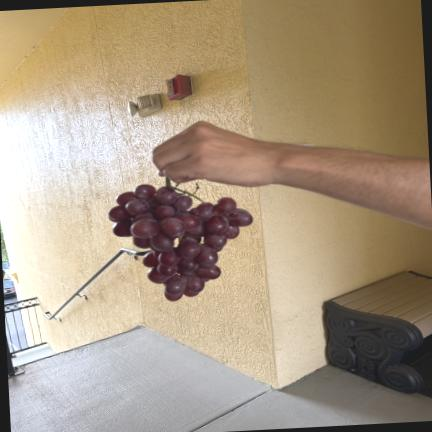grape_cluster: (109, 177, 253, 301)
